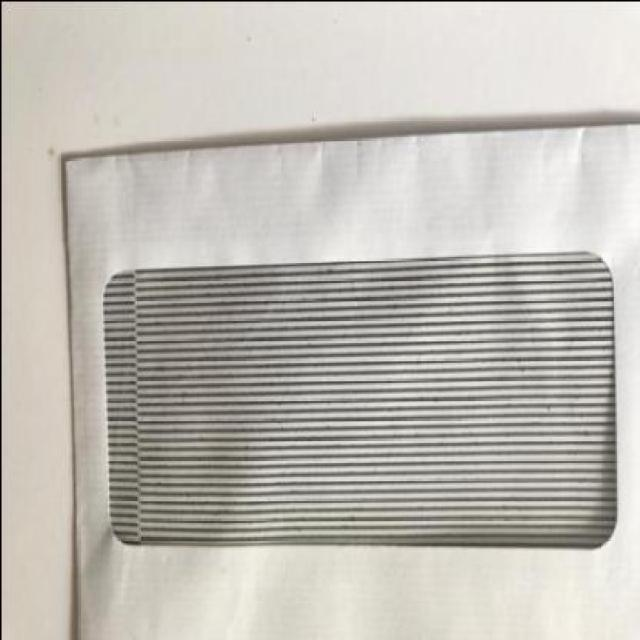PAPER: (61, 120, 638, 640)
